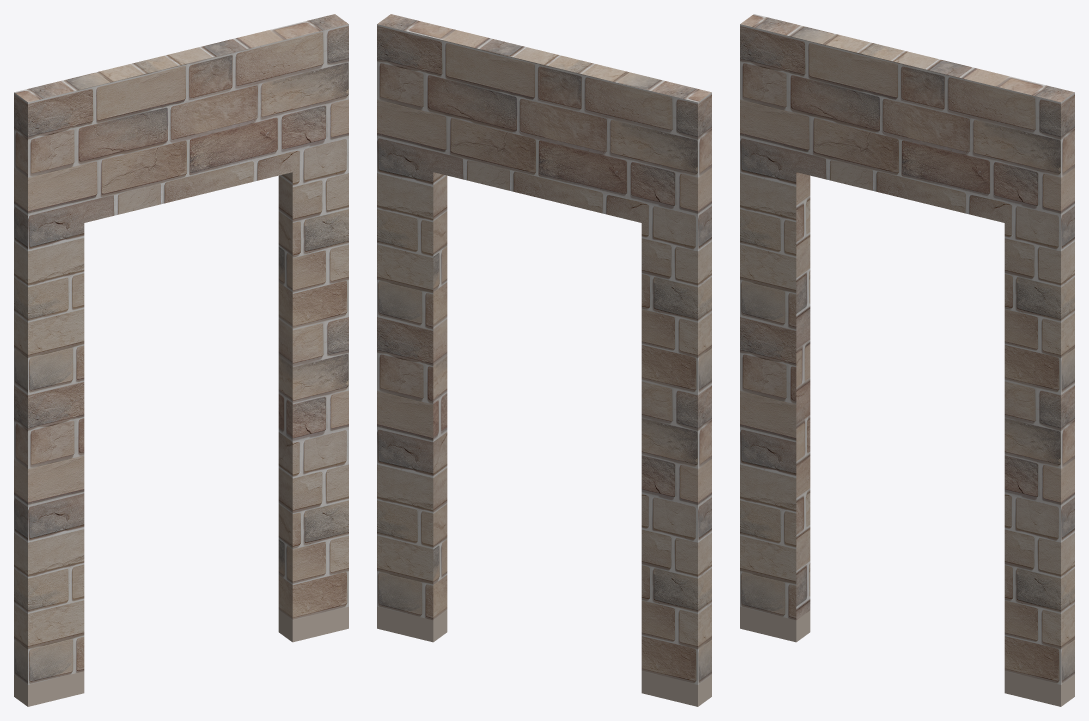
File: ARC0210005.fbx
The picture shows the model from 3 angles, left to right: view 1: azimuth 30°, elevation 25°; view 2: azimuth 150°, elevation 25°; view 3: azimuth 330°, elevation 25°; orthographic projection.
Visible parts, largest first — view 1: smARC0210005; view 2: smARC0210005; view 3: smARC0210005.
Part boxes in pixels (bbox=[...]): smARC0210005: bbox=[14, 14, 348, 706]; smARC0210005: bbox=[377, 14, 711, 706]; smARC0210005: bbox=[740, 14, 1074, 706].
Size of the model in its own units: 182 by 328 by 13.67.
1 material, 1 textured.
